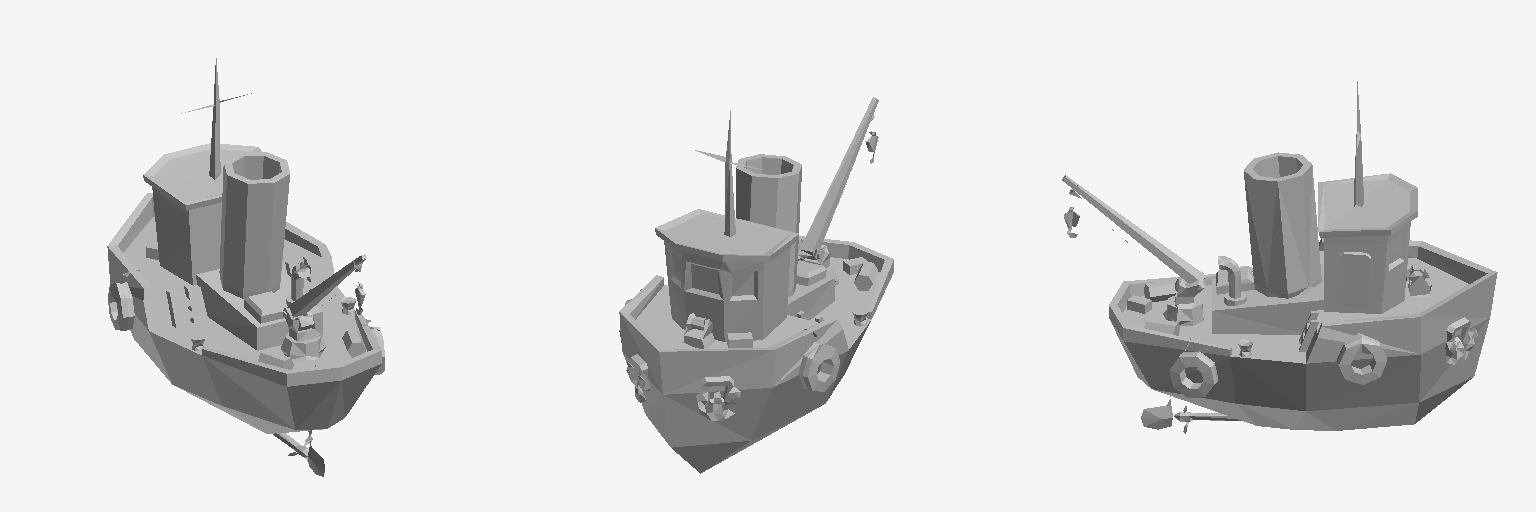
File: tinyboat.obj
The picture shows the model from 3 angles: view 1: azimuth 30°, elevation 25°; view 2: azimuth 150°, elevation 25°; view 3: azimuth 270°, elevation 25°; orthographic projection.
Parts seen in each view (by area): view 1: boaty_gridmodeler_pipe.005; view 2: boaty_gridmodeler_pipe.005; view 3: boaty_gridmodeler_pipe.005.
Part boxes in pixels (x1,y1,x2,y2): boaty_gridmodeler_pipe.005: (107,58,384,476); boaty_gridmodeler_pipe.005: (619,97,893,473); boaty_gridmodeler_pipe.005: (1062,81,1497,433).
Bounding box in the file's own units: 0.5341 × 0.869 × 0.9786.